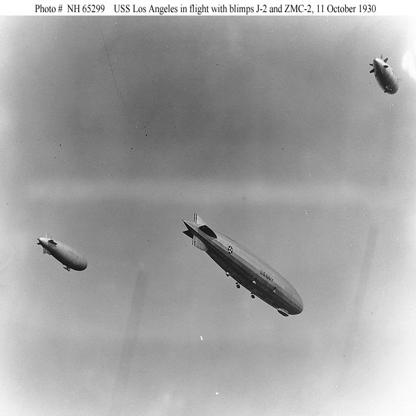Airship: (179, 210, 306, 319), (35, 232, 90, 274), (367, 52, 403, 99)
